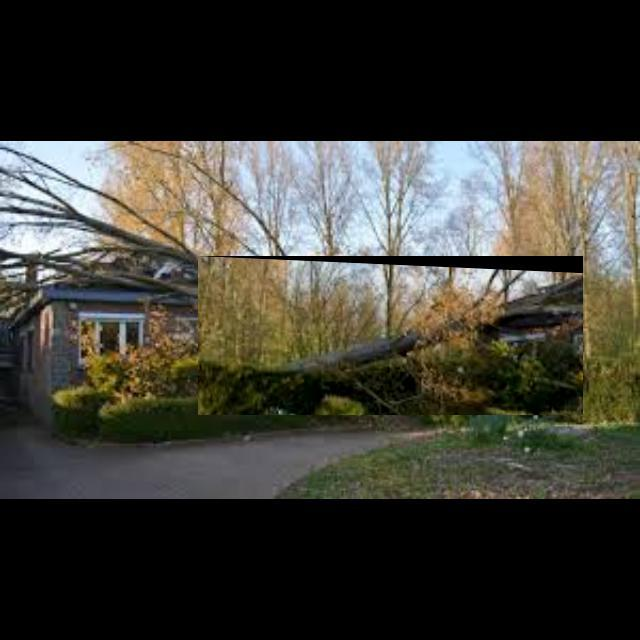fallen_tree: (198, 256, 584, 416)
